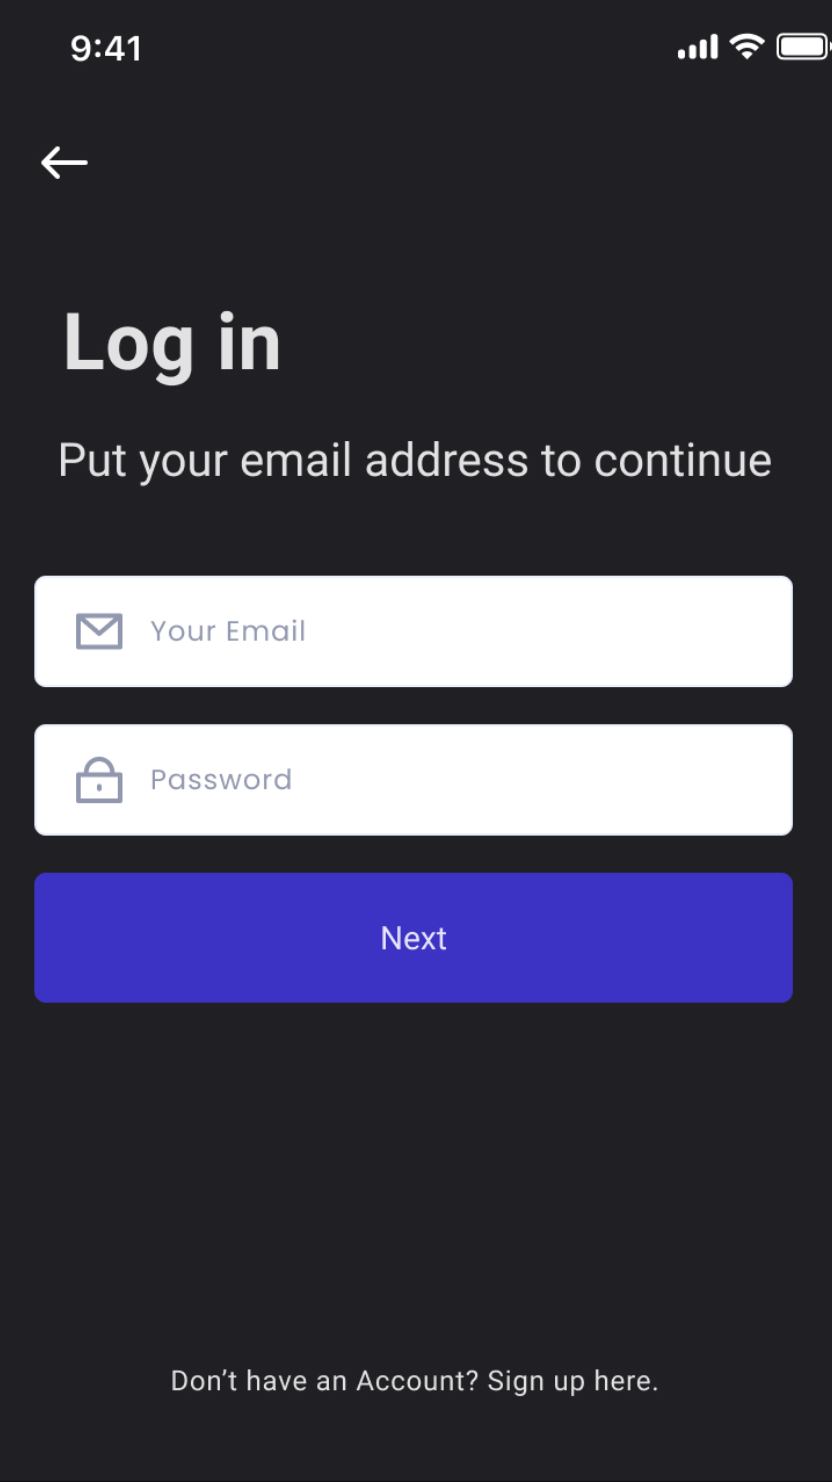Button: (34, 871, 795, 1008)
